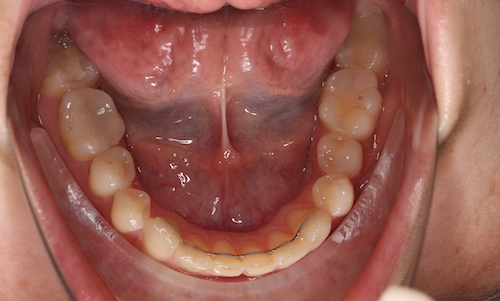LL1BC_healthy: (313, 174, 354, 215)
LL1M_healthy: (321, 69, 381, 137)
LL2BC_healthy: (318, 137, 362, 176)
LL2M_healthy: (347, 19, 389, 69)
LLCI_decay: (243, 245, 271, 277)
LLC_decay: (291, 208, 330, 240)
LLLI_decay: (267, 234, 302, 265)
LR1BC_healthy: (112, 190, 151, 231)
LR1M_healthy: (61, 88, 123, 158)
LR2BC_decay: (90, 148, 134, 195)
LR2M_decay: (46, 47, 98, 95)
LRCI_decay: (212, 243, 242, 277)
LRC_healthy: (144, 217, 178, 258)
LRLI_decay: (179, 237, 211, 273)
